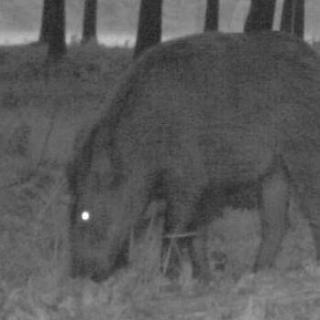Pig: (46, 4, 320, 263)
